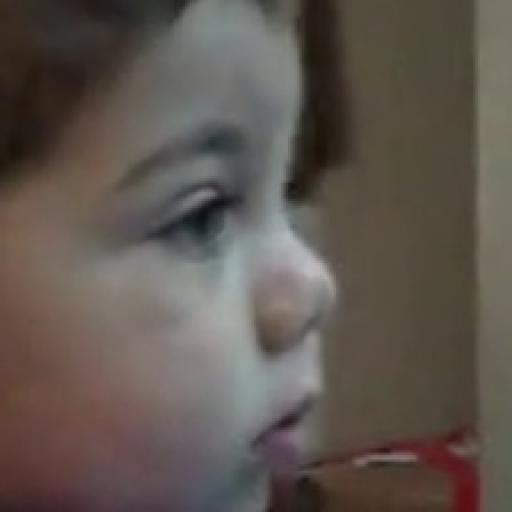Autism: (4, 4, 412, 512)
